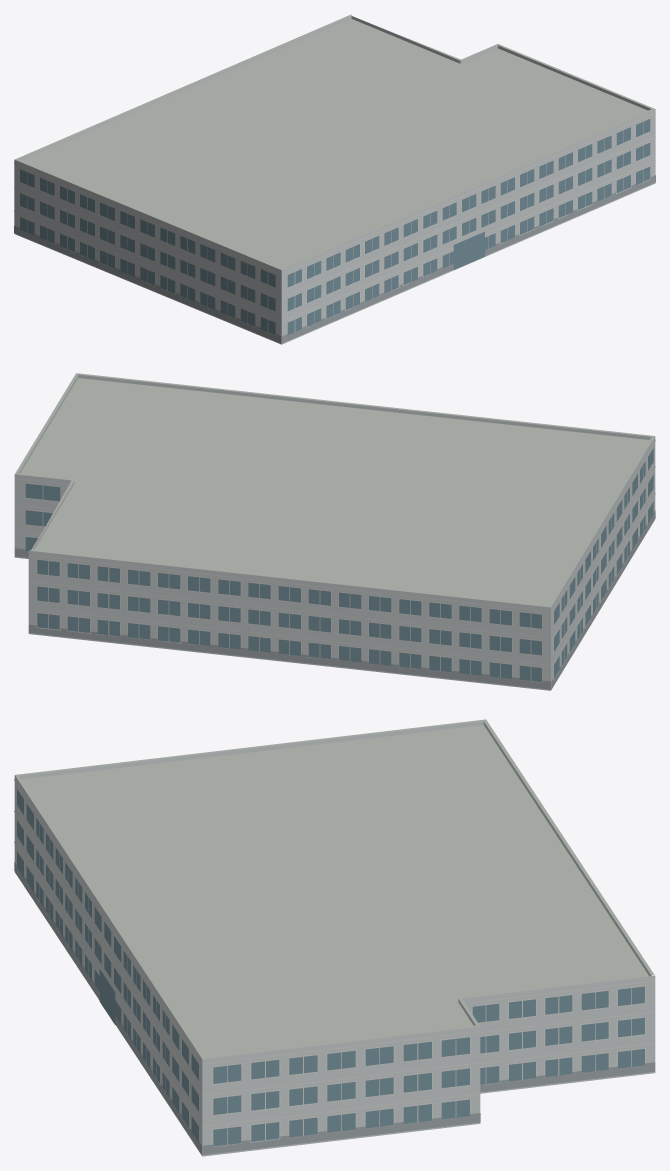
File: public-432c13f1-7d6e-4a82-8762-3b7f535fb643.glb
3 views of the same model, one above another, from view 1: azimuth 30°, elevation 25°; view 2: azimuth 150°, elevation 25°; view 3: azimuth 270°, elevation 25° (orthographic). The views are drawn at different scales.
Parts seen in each view (by area): view 1: public-432c13f1-7d6e-4a82-8762-3b7f535fb643; view 2: public-432c13f1-7d6e-4a82-8762-3b7f535fb643; view 3: public-432c13f1-7d6e-4a82-8762-3b7f535fb643.
Part boxes in pixels (box(x1,y1,x2,y2)): public-432c13f1-7d6e-4a82-8762-3b7f535fb643: box(14, 14, 655, 344); public-432c13f1-7d6e-4a82-8762-3b7f535fb643: box(14, 373, 655, 690); public-432c13f1-7d6e-4a82-8762-3b7f535fb643: box(14, 719, 655, 1156).
Size of the model in its own units: 68.62 by 9.15 by 54.67.
